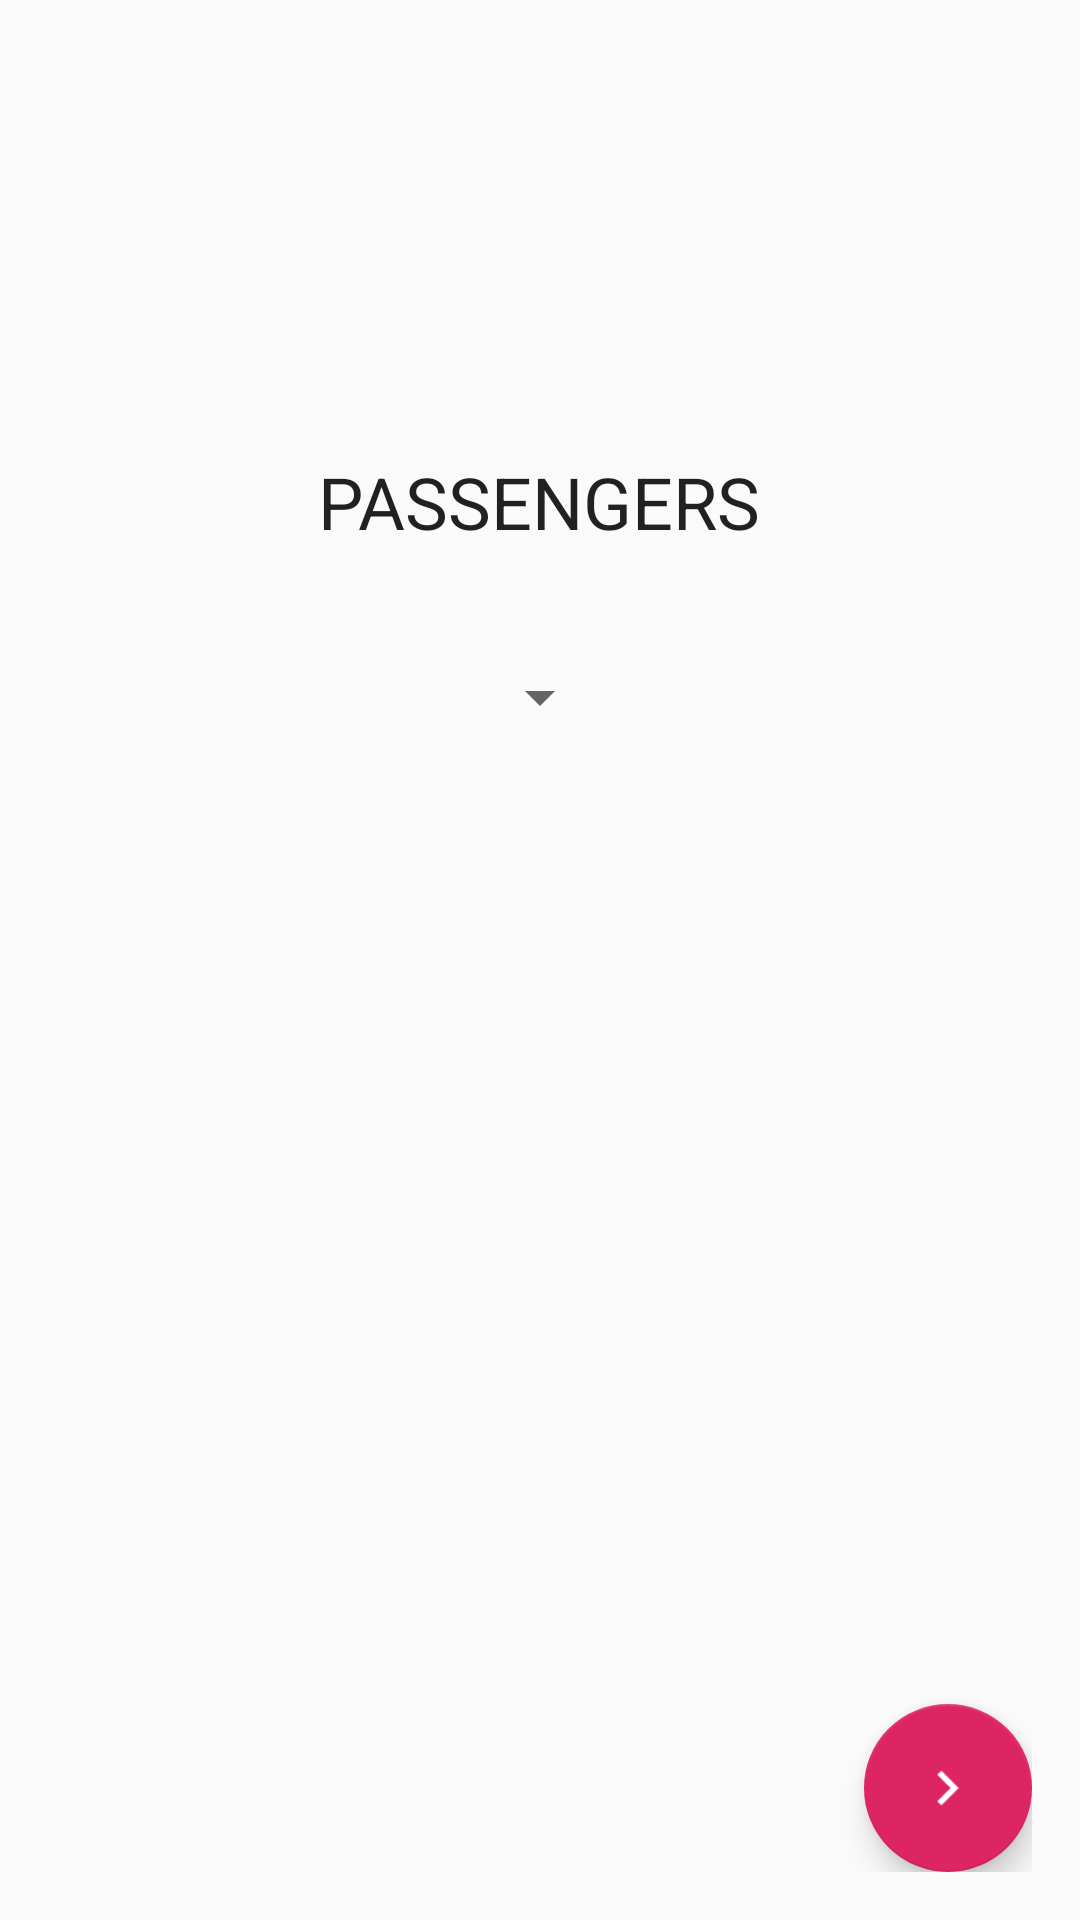

Named icons in this screenshot (1080 x 1920) and their bounding boxes, {"x1": x1, "y1": y1, "x2": x2, "y2": y2}:
arrow: {"x1": 864, "y1": 1704, "x2": 1032, "y2": 1872}
